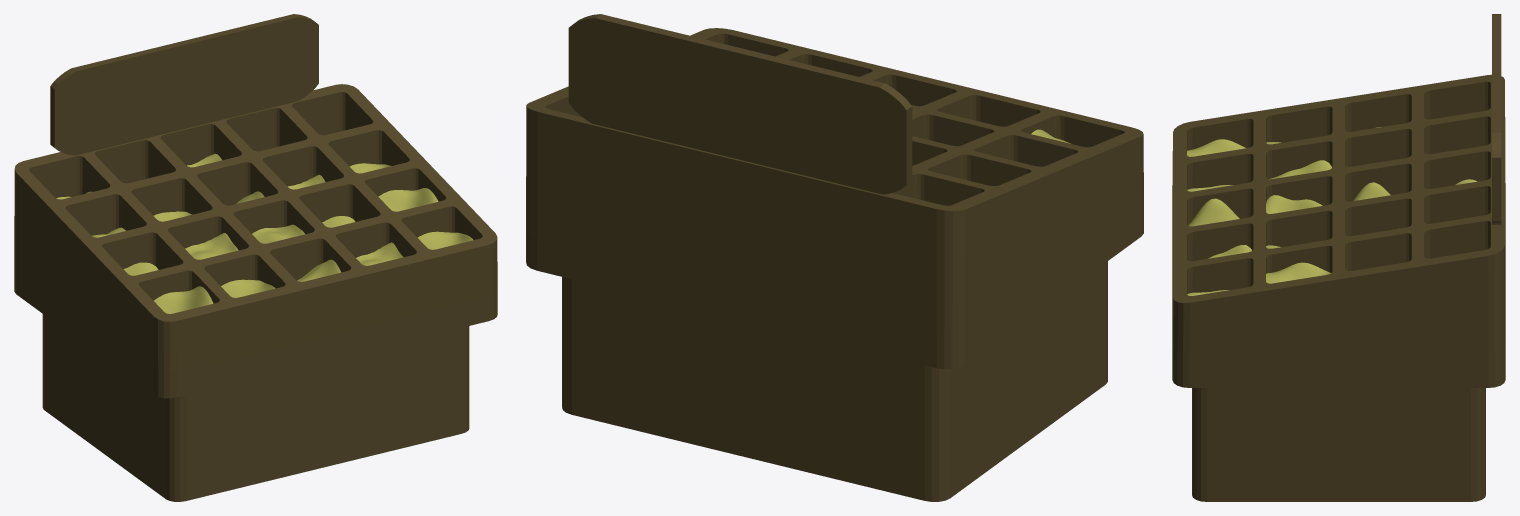
Rendered from timsah_tezgah_4.fbx.
3 renders of one model, left to right at view 1: azimuth 30°, elevation 25°; view 2: azimuth 150°, elevation 25°; view 3: azimuth 270°, elevation 25°, orthographic. The views are drawn at different scales.
Visible parts, largest first — view 1: Plane.025, Plane.026, Cube.020, Plane.024; view 2: Plane.025, Plane.026, Cube.020; view 3: Plane.025, Plane.026, Plane.024, Cube.020.
Boxes of the visible parts, x1,y1,x2,y2 form: Plane.025: [14, 84, 497, 398]; Plane.026: [42, 314, 469, 501]; Cube.020: [50, 14, 318, 155]; Plane.024: [56, 153, 473, 313]; Plane.025: [526, 28, 1143, 369]; Plane.026: [562, 261, 1107, 501]; Cube.020: [568, 14, 912, 194]; Plane.025: [1172, 74, 1505, 387]; Plane.026: [1192, 388, 1485, 501]; Plane.024: [1187, 127, 1477, 295]; Cube.020: [1492, 14, 1501, 224].
Size of the model in its own units: 171 by 154 by 133.
